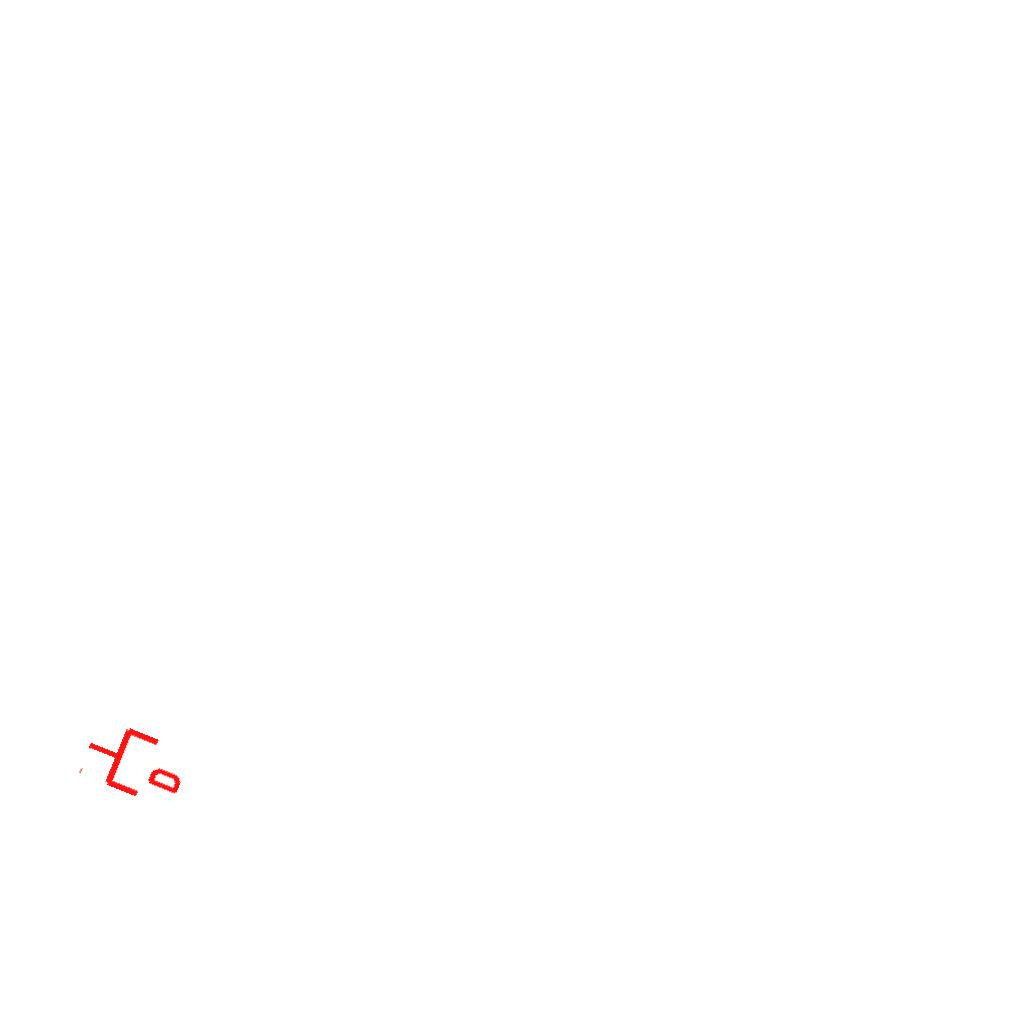Datenanschluss_einfach: (75, 712, 194, 814)
